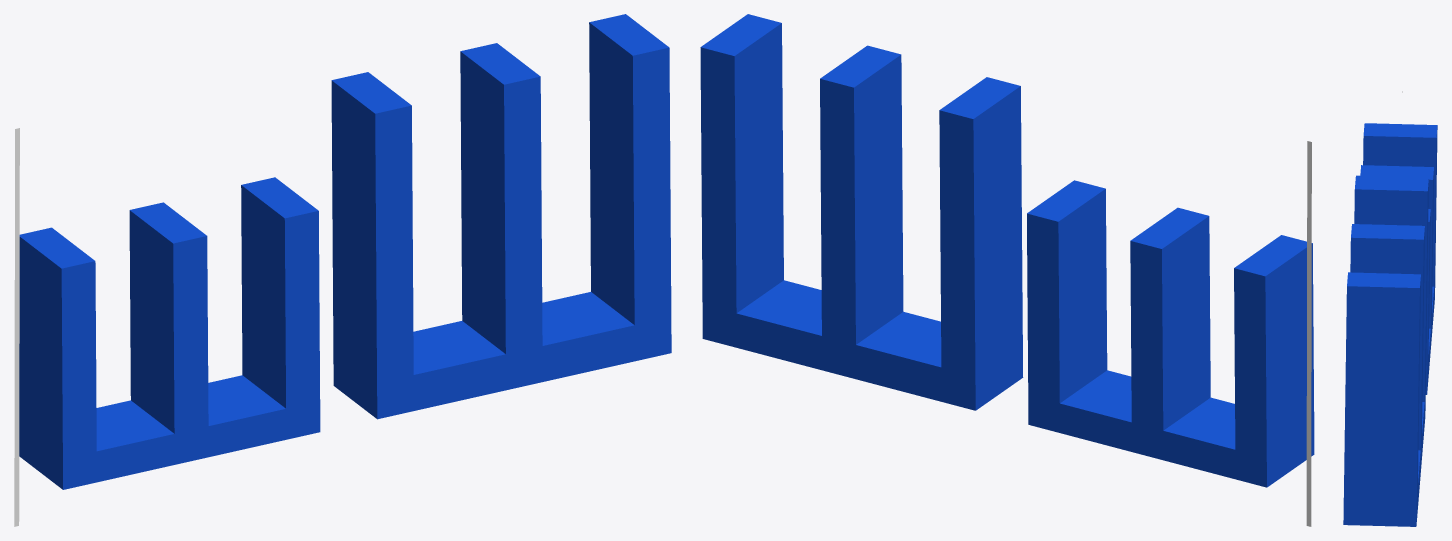
3 renders of one model, left to right at view 1: azimuth 30°, elevation 25°; view 2: azimuth 150°, elevation 25°; view 3: azimuth 270°, elevation 25°, orthographic. The views are drawn at different scales.
Parts seen in each view (by area): view 1: Mesh_0.030, Плоскость; view 2: Mesh_0.030, Плоскость; view 3: Mesh_0.030.
Part boxes in pixels (x1,y1,x2,y2): Mesh_0.030: (19, 14, 671, 489); Плоскость: (14, 128, 19, 526); Mesh_0.030: (700, 14, 1314, 487); Плоскость: (1306, 141, 1311, 526); Mesh_0.030: (1343, 123, 1437, 526).
Size of the model in its own units: 15.33 by 9.38 by 2.56.
